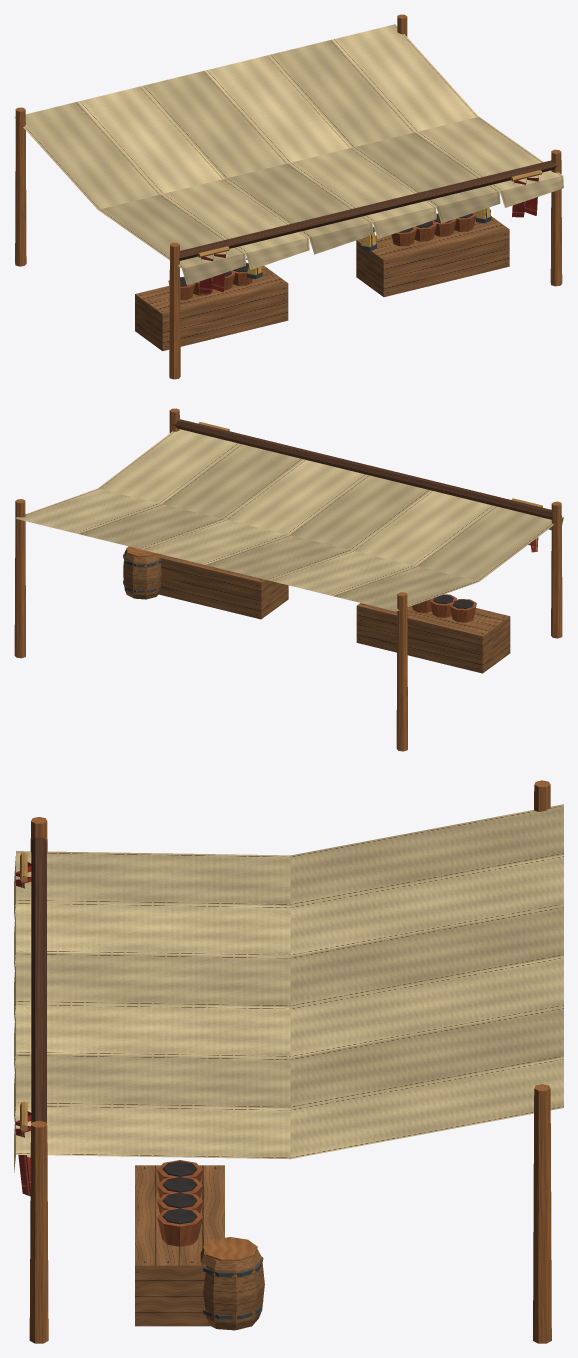
File: market.glb
The picture shows the model from 3 angles, top to bottom: view 1: azimuth 30°, elevation 25°; view 2: azimuth 150°, elevation 25°; view 3: azimuth 270°, elevation 25°; orthographic projection. The views are drawn at different scales.
Visible parts, largest first — view 1: market_F4; view 2: market_F4; view 3: market_F4.
Boxes of the visible parts, x1=… form: market_F4: x1=14, y1=14, x2=563, y2=379; market_F4: x1=14, y1=408, x2=563, y2=751; market_F4: x1=14, y1=780, x2=563, y2=1343.
Size of the model in its own units: 10.26 by 3.87 by 7.65.
Materials: 1 (1 with a texture image).
